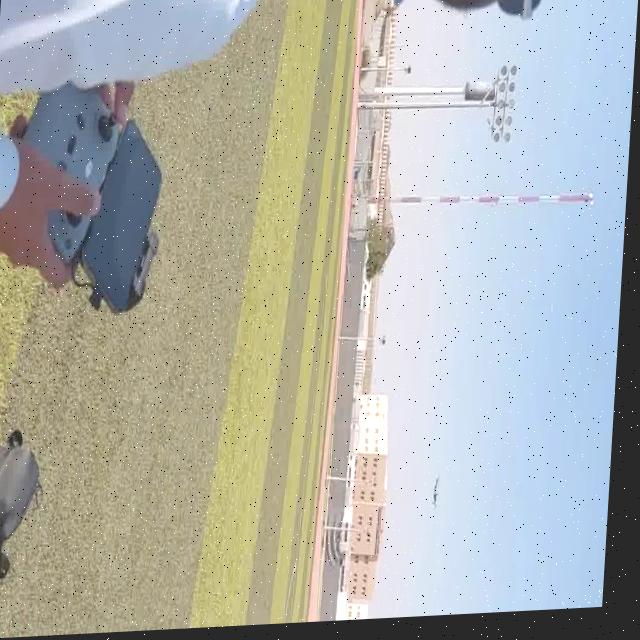drone: (435, 472, 455, 526)
